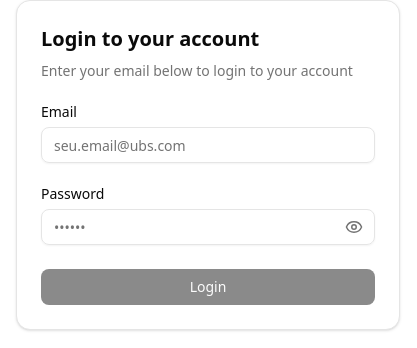
Test case: LoginForm › button becomes enabled with valid email and password
The width and height of the screenshot is (417, 348).
Type "user@ubs.com" into the field labelled "Email".
click(208, 145); type("user@ubs.com")  # box [41,127,375,163]
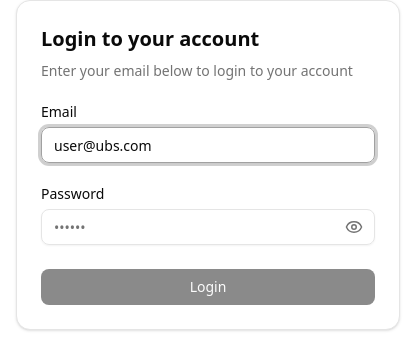
Type "123456" into the password field labelled "Password".
click(208, 227); type("123456")  # box [41,209,375,245]
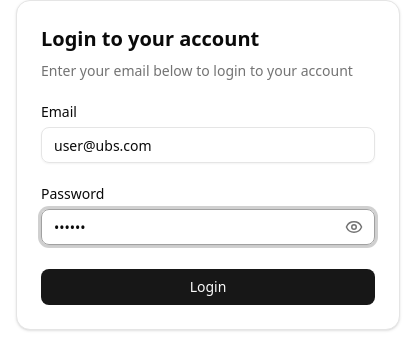
Result: the button "Login" is enabled at [41,269,375,305]
